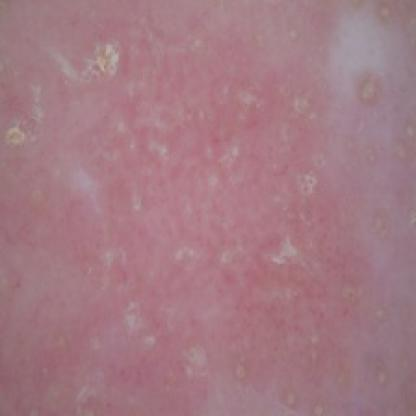malignant: (6, 35, 388, 225)
